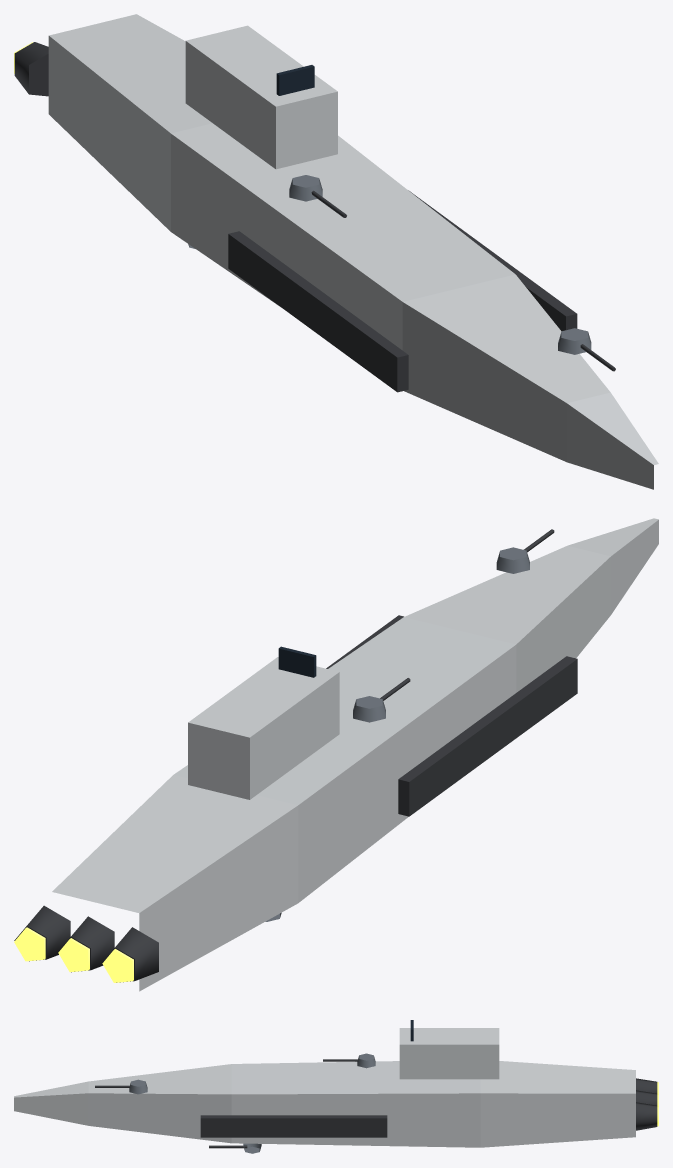
File: space_ship_destroyer_mk1_lod1.glb
3 views of the same model, one above another, from view 1: azimuth 30°, elevation 25°; view 2: azimuth 150°, elevation 25°; view 3: azimuth 270°, elevation 25° (orthographic). The views are drawn at different scales.
Parts seen in each view (by area): view 1: body, engine_0, turret_0, turret_2; view 2: body, engine_0, engine_2, engine_1, turret_0, turret_2; view 3: body, engine_2, turret_0, turret_2, turret_1, engine_0, engine_1.
Boxes of the visible parts, bbox=[...] form: body: bbox=[48, 14, 658, 489]; engine_0: bbox=[14, 42, 48, 96]; turret_0: bbox=[558, 328, 615, 371]; turret_2: bbox=[289, 175, 346, 217]; body: bbox=[52, 518, 658, 991]; engine_0: bbox=[102, 927, 158, 982]; engine_2: bbox=[14, 905, 70, 961]; engine_1: bbox=[58, 916, 114, 972]; turret_0: bbox=[496, 529, 554, 573]; turret_2: bbox=[353, 678, 410, 722]; body: bbox=[14, 1020, 635, 1147]; engine_2: bbox=[636, 1102, 658, 1130]; turret_0: bbox=[95, 1079, 147, 1094]; turret_2: bbox=[323, 1053, 375, 1068]; turret_1: bbox=[209, 1143, 261, 1153]; engine_0: bbox=[636, 1078, 658, 1094]; engine_1: bbox=[636, 1090, 658, 1106].
Size of the model in its own units: 8.1 by 9.14 by 45.62.
